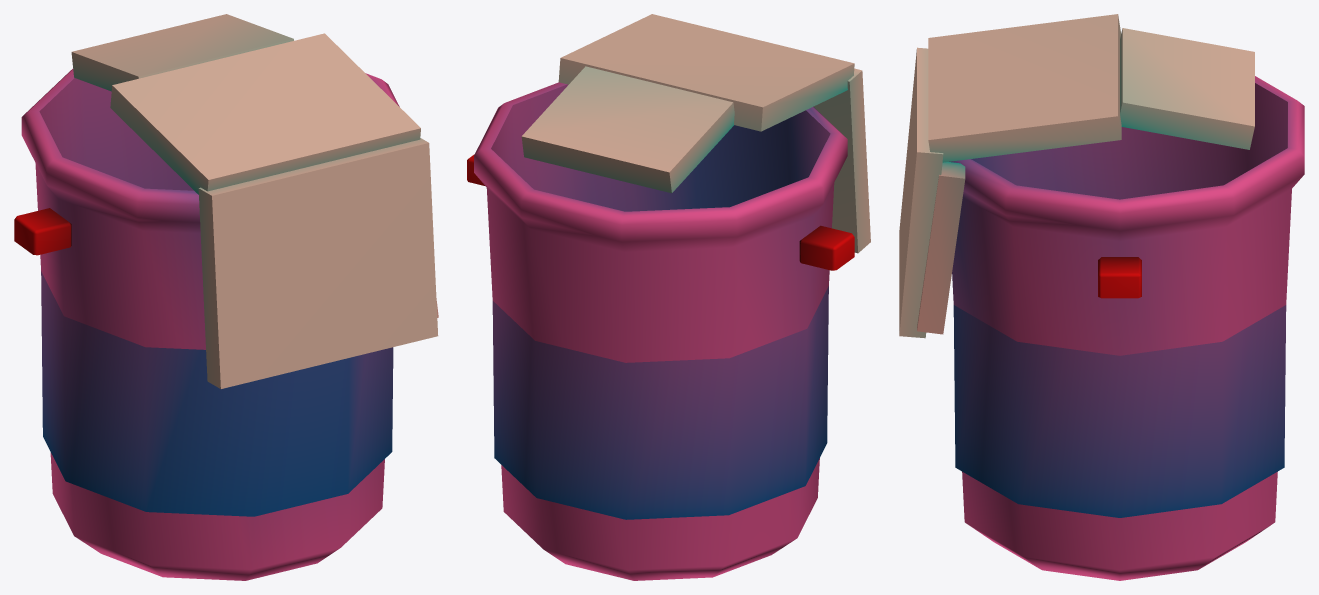
File: CI_Bedroom_LaundryBasket.glb
3 renders of one model, left to right at view 1: azimuth 30°, elevation 25°; view 2: azimuth 150°, elevation 25°; view 3: azimuth 270°, elevation 25°, orthographic. The views are drawn at different scales.
Visible parts, largest first — view 1: CI_Bedroom_LaundryBasket; view 2: CI_Bedroom_LaundryBasket; view 3: CI_Bedroom_LaundryBasket.
Part boxes in pixels (x1,y1,x2,y2): CI_Bedroom_LaundryBasket: [14, 14, 438, 580]; CI_Bedroom_LaundryBasket: [467, 14, 870, 580]; CI_Bedroom_LaundryBasket: [899, 14, 1304, 580].
Bounding box in the file's own units: 0.5 × 0.5749 × 0.4592.
